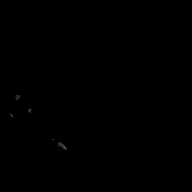v: (7, 92, 32, 117)
